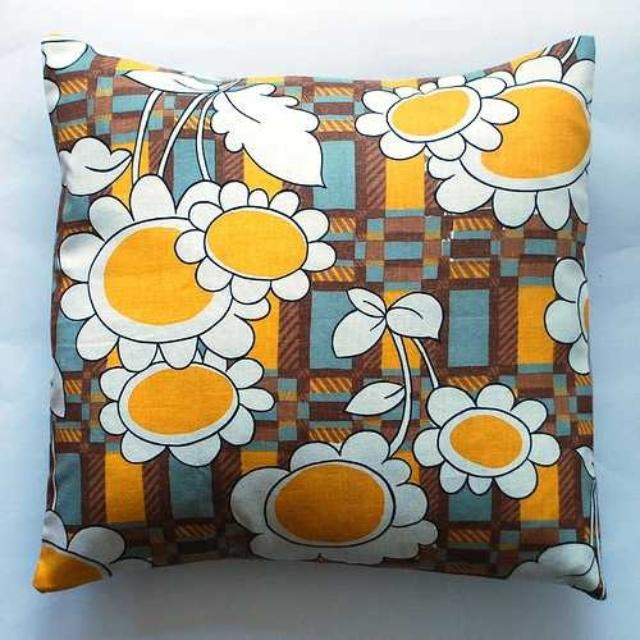pillow: (34, 32, 602, 600)
